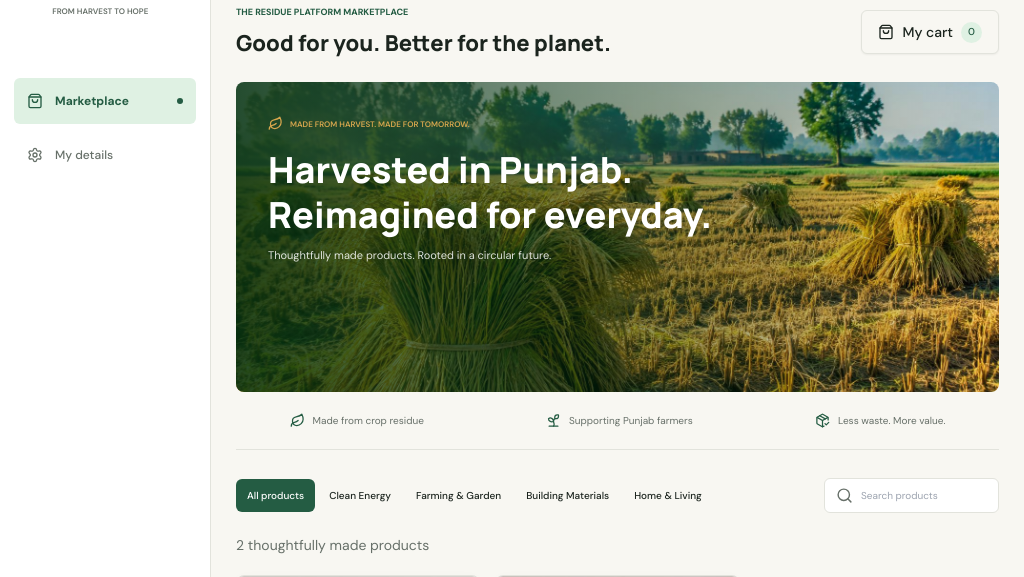
Test: marketplace › categories and search narrow the shelf
Click the button "Farming & Garden": point(459, 496) [405,479,512,512]
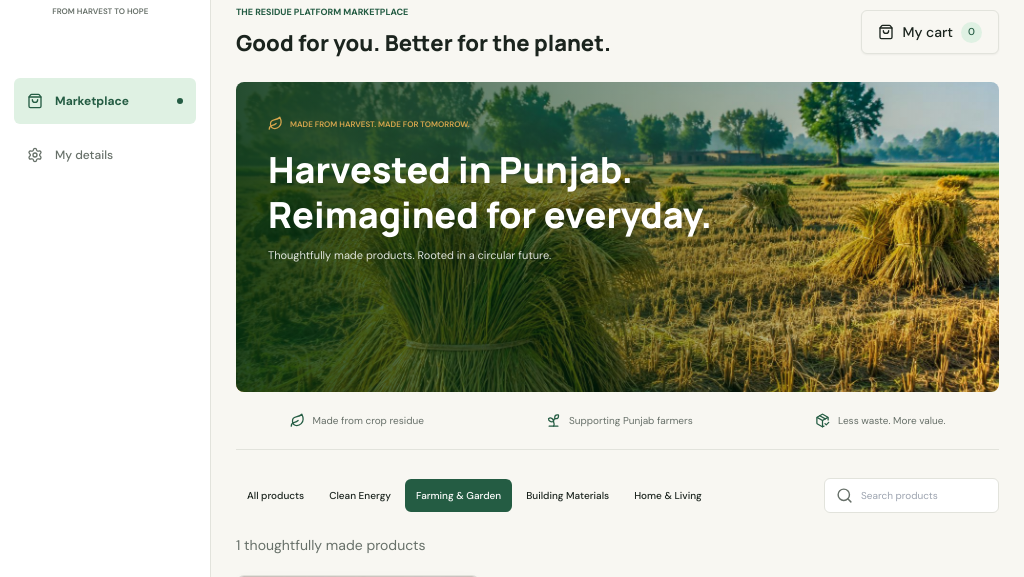
Click the button "All products": point(276, 496) [236,479,315,512]
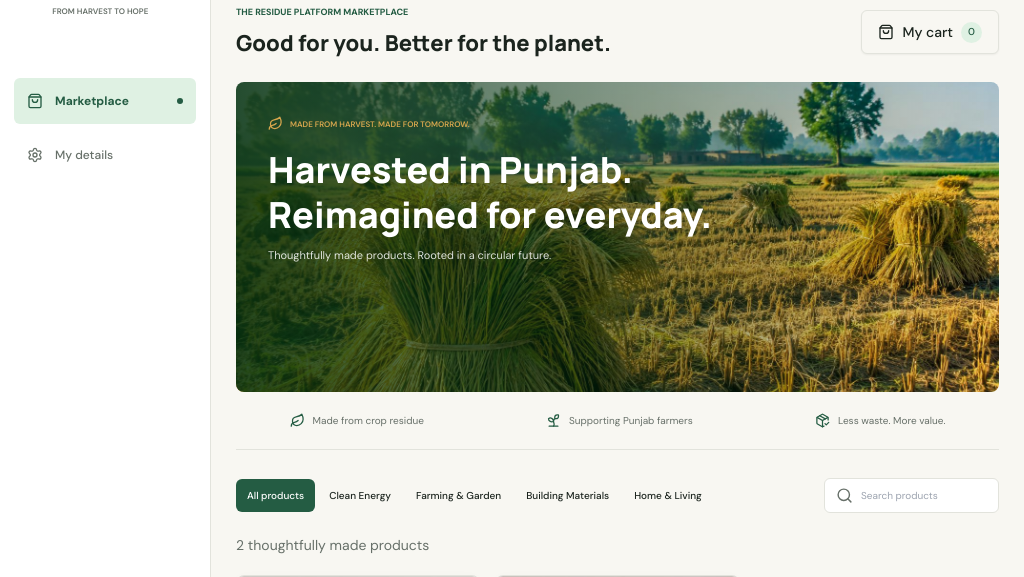
In the field labelled "Search products": point(924, 496) [861,488,987,503], type "zzz"
(page scrolled)
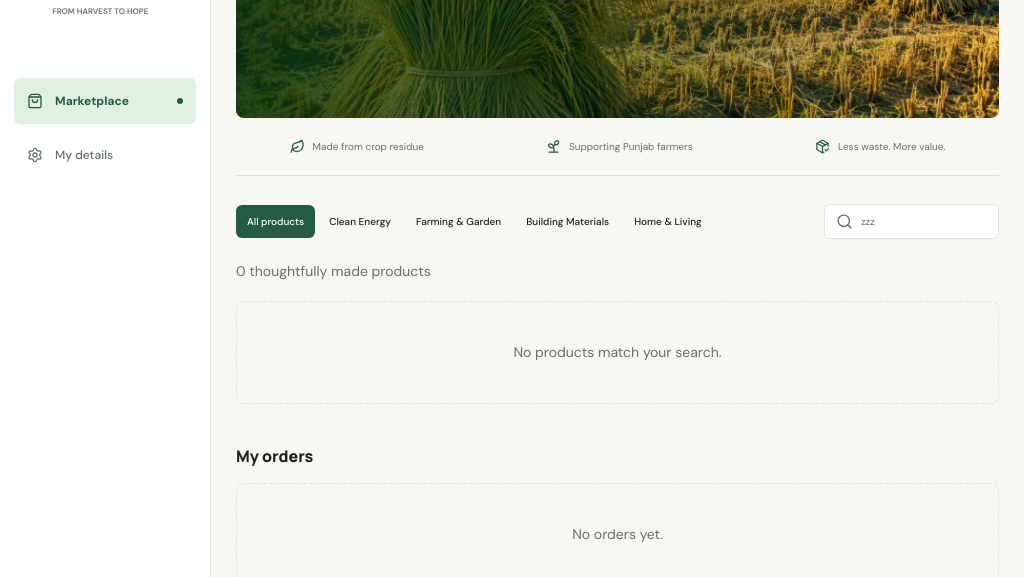
Expected: the text "No products match your search." is shown, [236,301,999,404]
